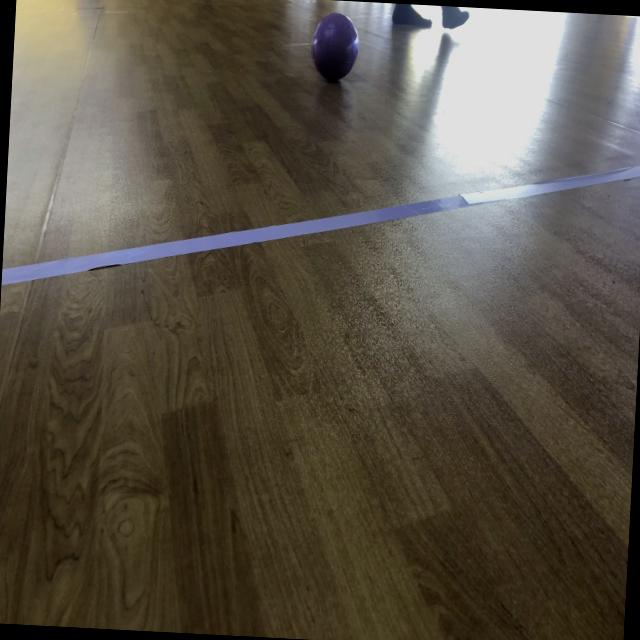purple_ball: (312, 12, 361, 82)
